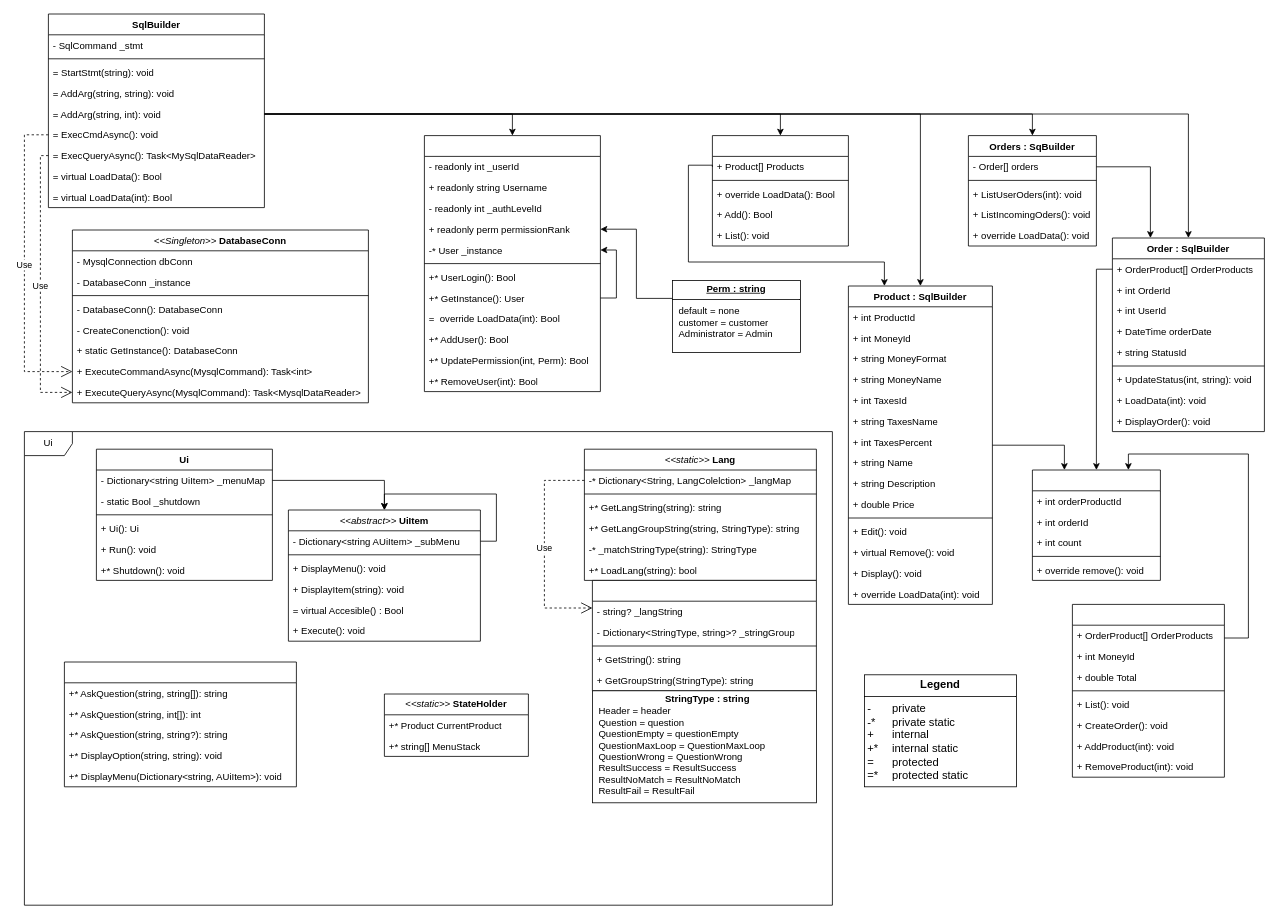
The diagram is 1278 pixels wide and 919 high, and some of its shapes have lost their labels. Each missing label, with the box of its shape:
<<Singleton>> User : SqlBuilder: (424, 135, 600, 392)
<<static>> UiHelper: (64, 661, 296, 787)
LangCollection: (592, 580, 816, 691)
OrderProduct : Product: (1032, 469, 1160, 580)
Products : SqlBuilder: (712, 135, 848, 246)
ShoppingCart : SqlBuilder: (1072, 604, 1224, 777)
